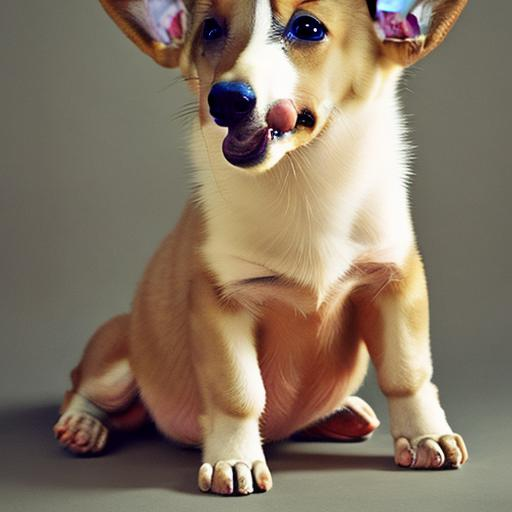eye: (282, 12, 335, 47), (204, 25, 227, 49)
